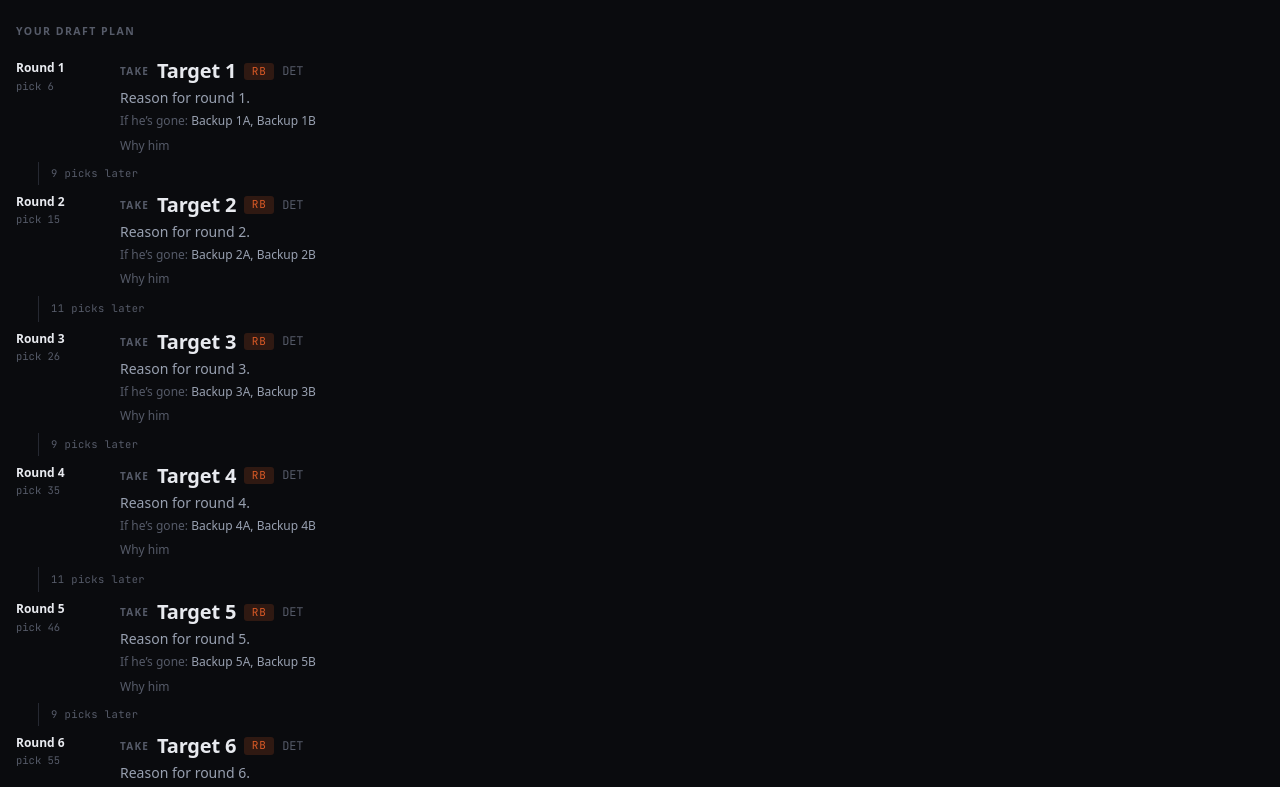
Test: the rest of the reasons are behind a disclosure, closed
Expected: the text "Target 1" is shown, [157,57,236,84]
Click the heading "Why him" below "Backup 1A, Backup 1B".
click(145, 145)  # box [120,137,170,154]
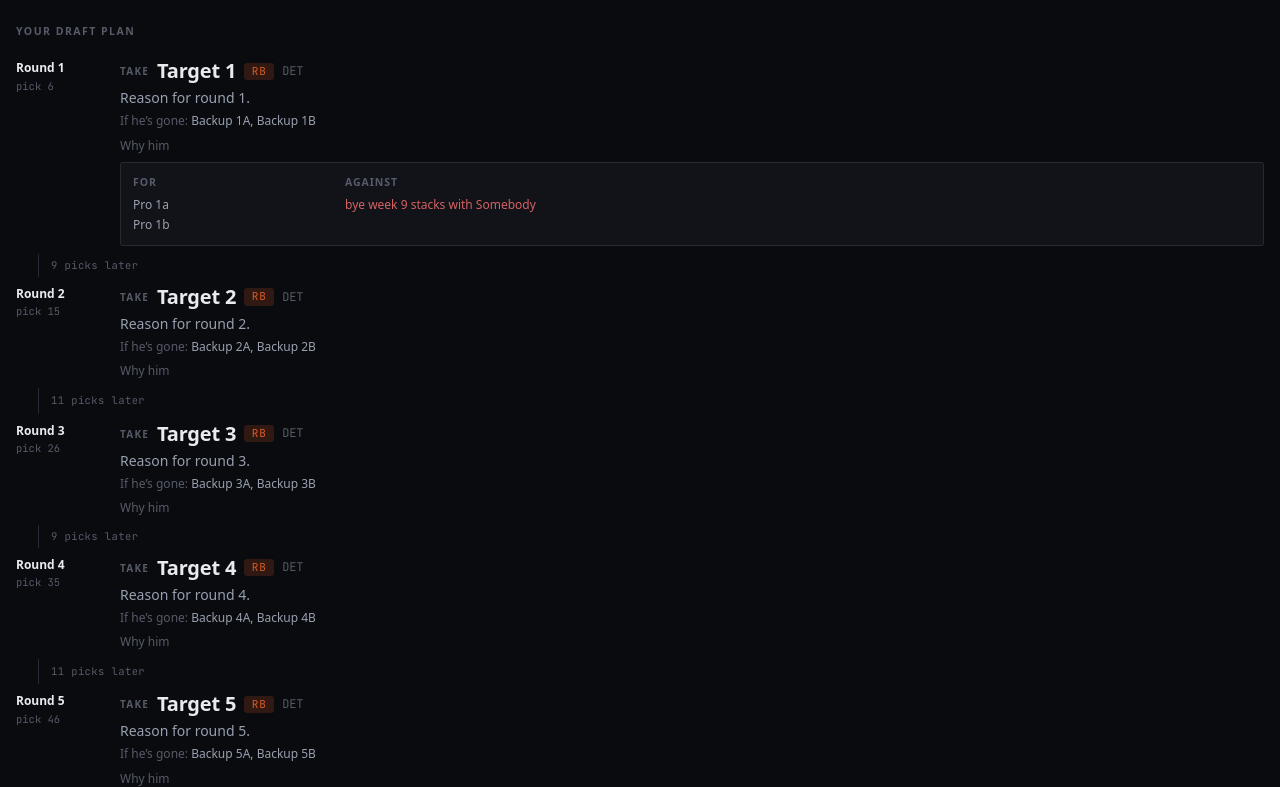
Expected: the list item "Pro 1a" is shown, [133,196,169,213]
Expected: the list item "bye week 9 stacks with Somebody" is shown, [345,196,536,213]
Expected: the text "For" is shown, [133,176,157,190]
